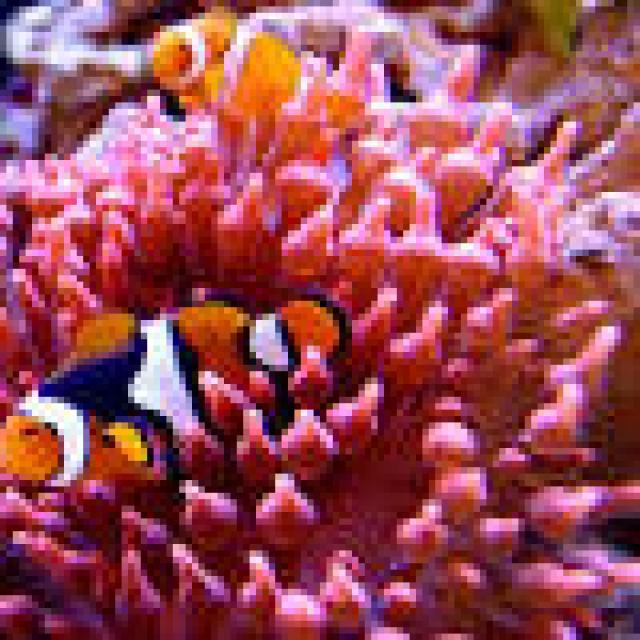ClownFish: (0, 262, 371, 540), (135, 2, 387, 144)
